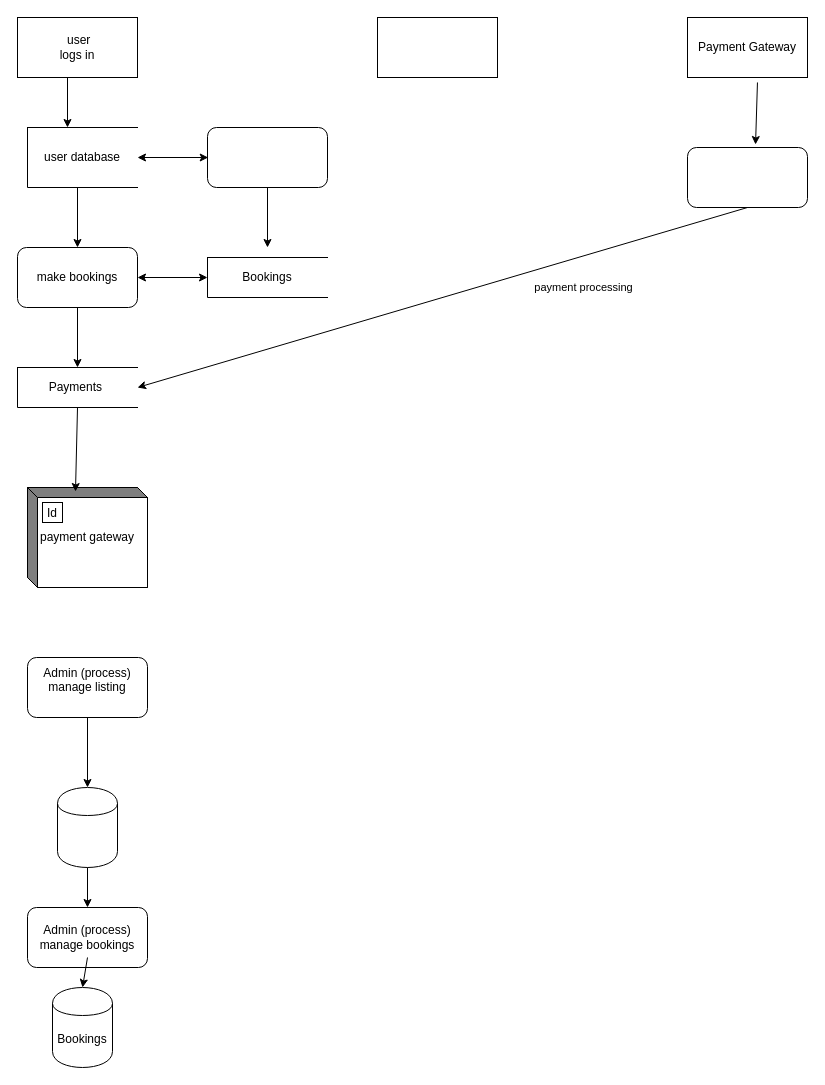
Image size: 825x1085. Some labels were removed from this diagram. Here are the shapes that lost their labels. From the top down, the centre of each, then its label:
the point at 437,47: admin
the point at 267,157: search property
the point at 747,177: process payment
the point at 87,827: property listing
